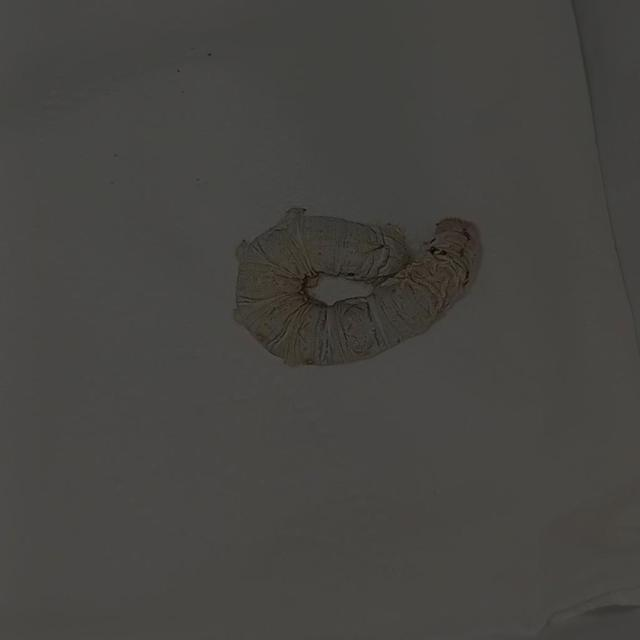Healthy: (186, 162, 550, 456)
